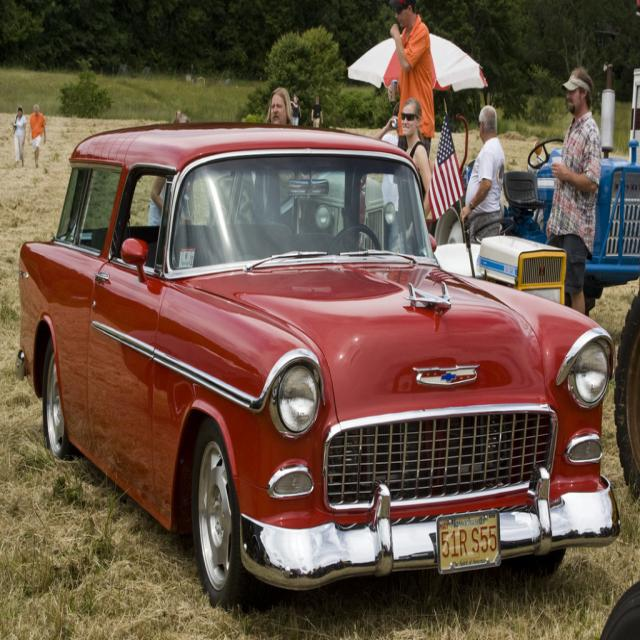car: (12, 120, 620, 611)
